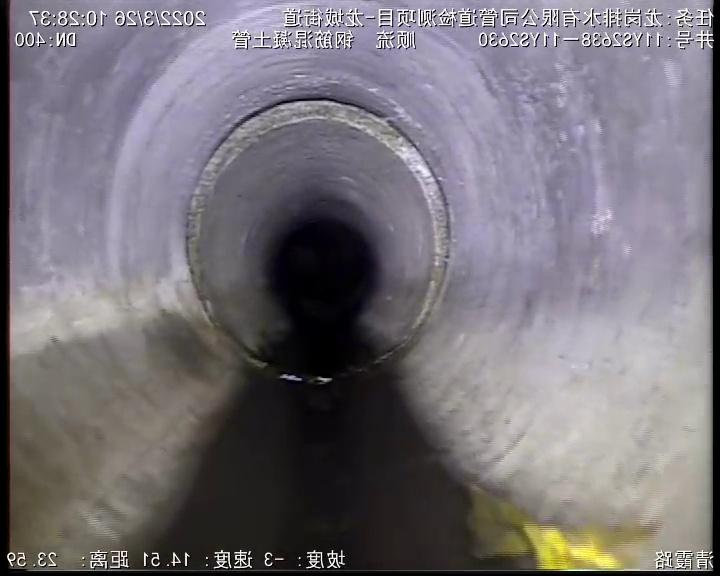CKTJ: (187, 99, 449, 366)
